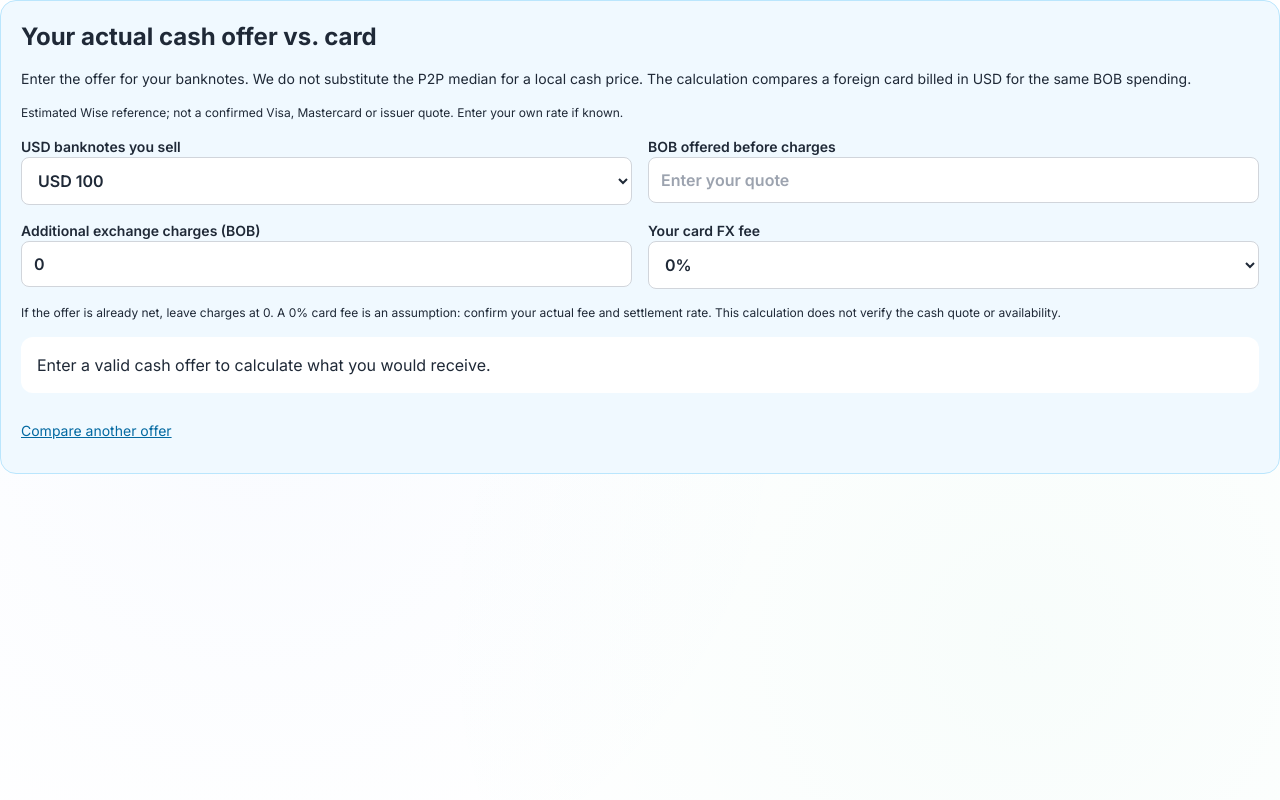
Test: compares a user cash offer after exchange fees and refuses negative net proceeds
Step 1. Type "1200" into the number field labelled "BOB offered before charges" → coordinates (954, 180), box [648,157,1259,203]
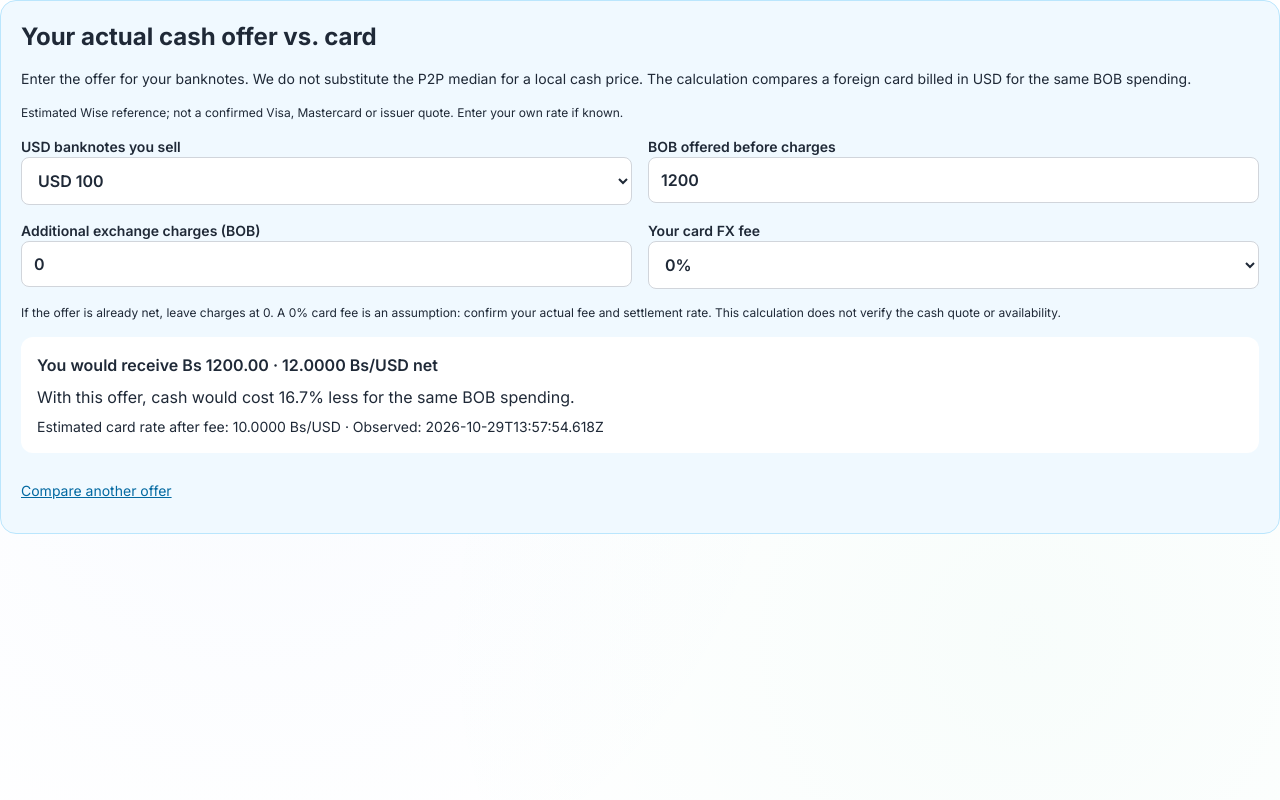
Step 2. Replace the text in the number field labelled "Additional exchange charges (BOB)" with "20" → coordinates (326, 264), box [21,241,632,287]
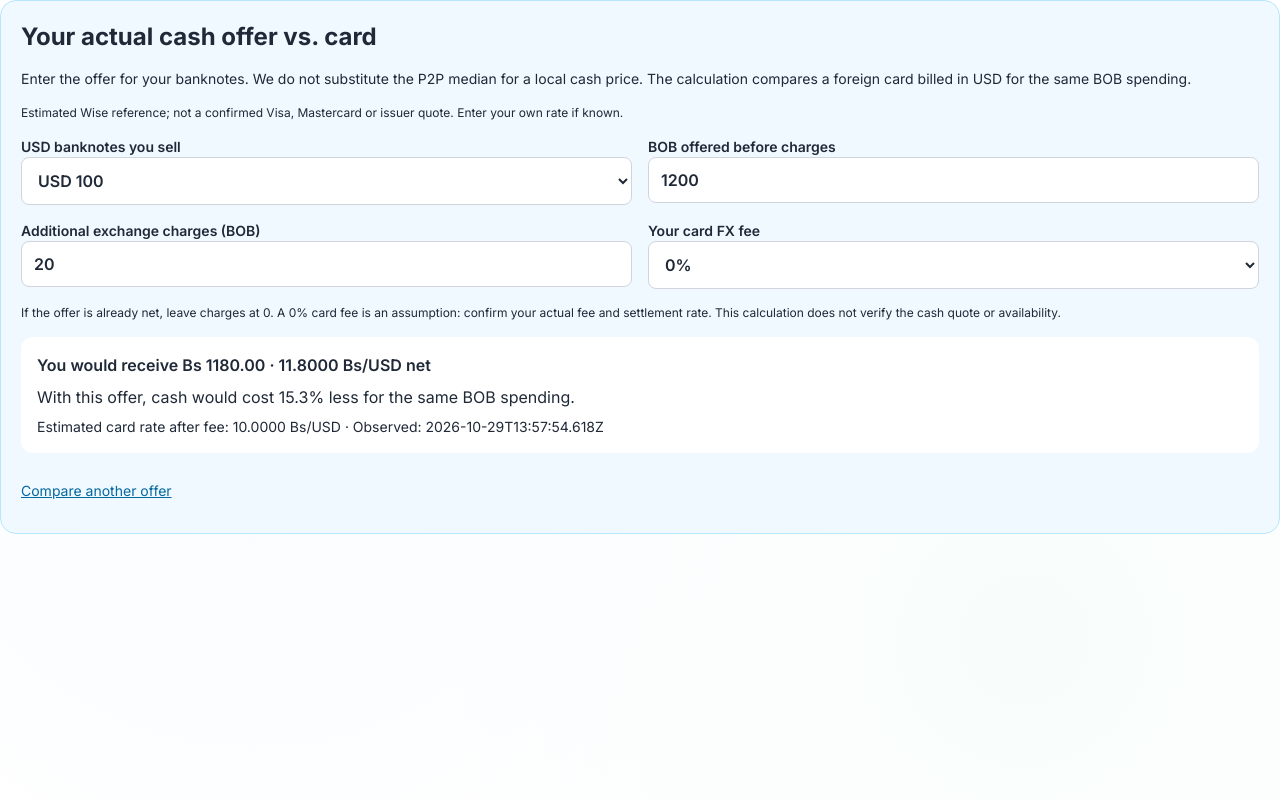
Check: the element that starts with "You would receive" shows "cash", box [37,387,187,407]
Check: the element that starts with "You would receive" shows "1180.00", box [206,355,265,375]
Check: the element that starts with "You would receive" shows "11.8000", box [279,355,339,375]
Step 3. Replace the text in the number field labelled "Additional exchange charges (BOB)" with "1300" → coordinates (326, 264), box [21,241,632,287]
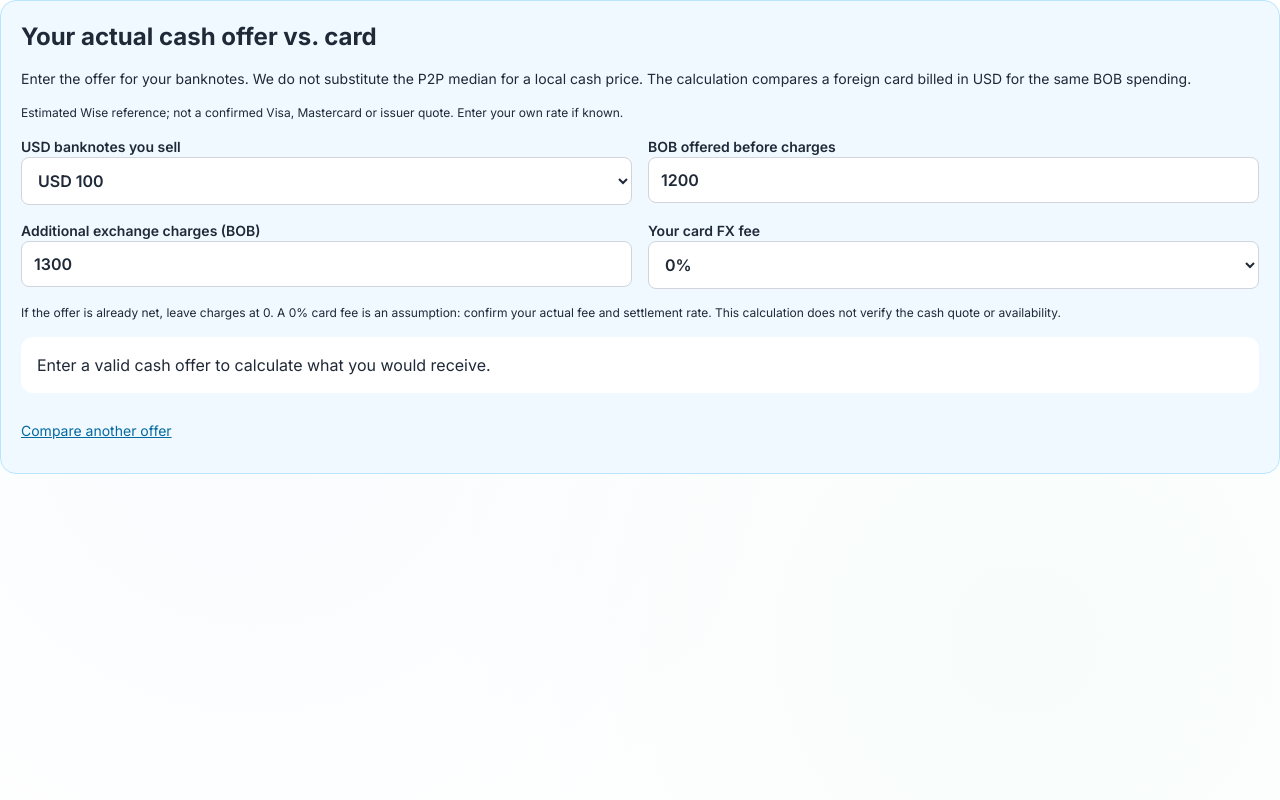
Check: the text "1180.00" is gone, box [21,337,1259,393]
Check: the text "Enter a valid cash offer" is shown, box [37,355,491,375]
